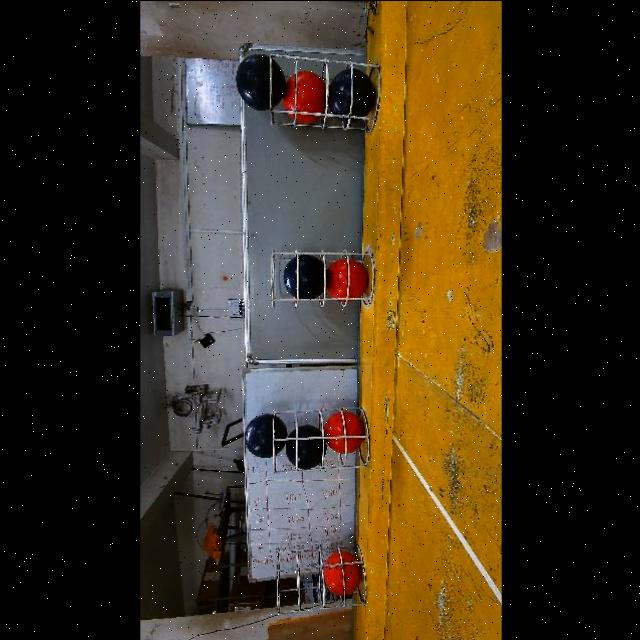P: (236, 53, 286, 110), (330, 65, 375, 119), (245, 413, 288, 457), (284, 253, 325, 297), (285, 424, 323, 469)
R: (283, 69, 329, 122), (328, 258, 370, 301), (324, 410, 366, 453), (324, 547, 362, 593)
S: (264, 54, 388, 128), (272, 244, 382, 312), (274, 544, 368, 612), (274, 408, 372, 470)
